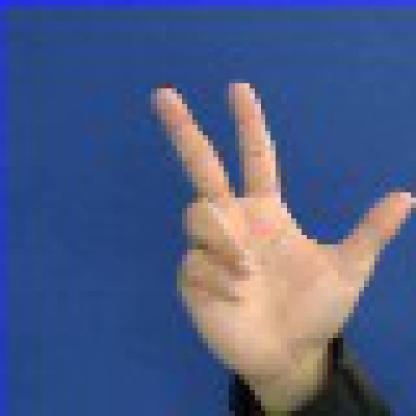eight: (141, 65, 415, 396)
